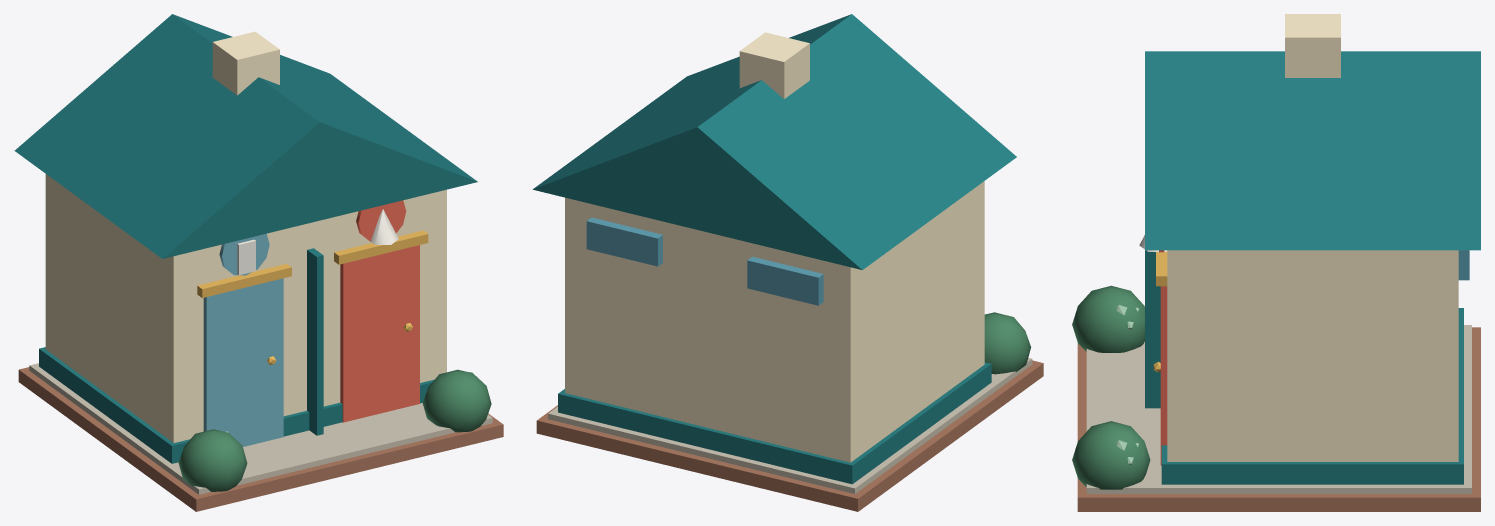
File: fac_toilet.glb
The picture shows the model from 3 angles, left to right: view 1: azimuth 30°, elevation 25°; view 2: azimuth 150°, elevation 25°; view 3: azimuth 270°, elevation 25°; orthographic projection. The views are drawn at different scales.
Visible parts, largest first — view 1: fac_toilet; view 2: fac_toilet; view 3: fac_toilet.
Boxes of the visible parts, <box> form: fac_toilet: <box>14,14,503,511</box>; fac_toilet: <box>533,14,1043,511</box>; fac_toilet: <box>1072,14,1480,511</box>.
Size of the model in its own units: 3.7 by 3.96 by 3.65.
